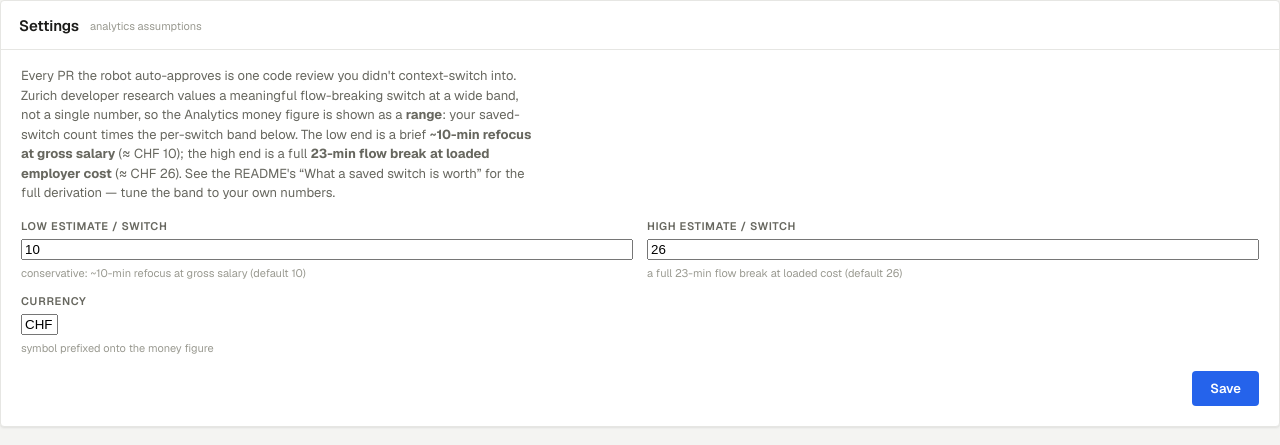
Test: SettingsPanel › confirms after a successful save
Click the button "Save".
click(1226, 388)  # box [1192,370,1259,406]
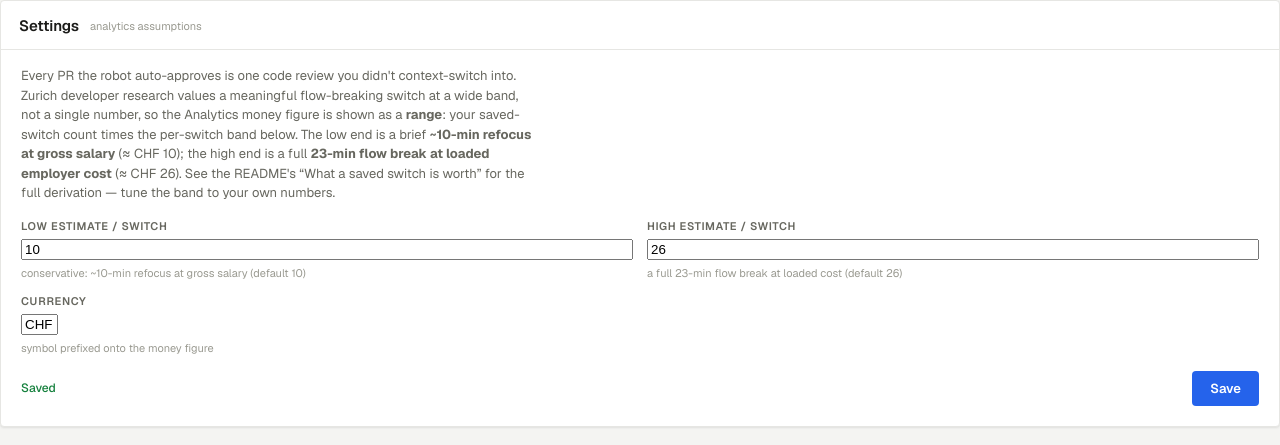
Expected: the message reads "Saved", [21,380,56,396]
